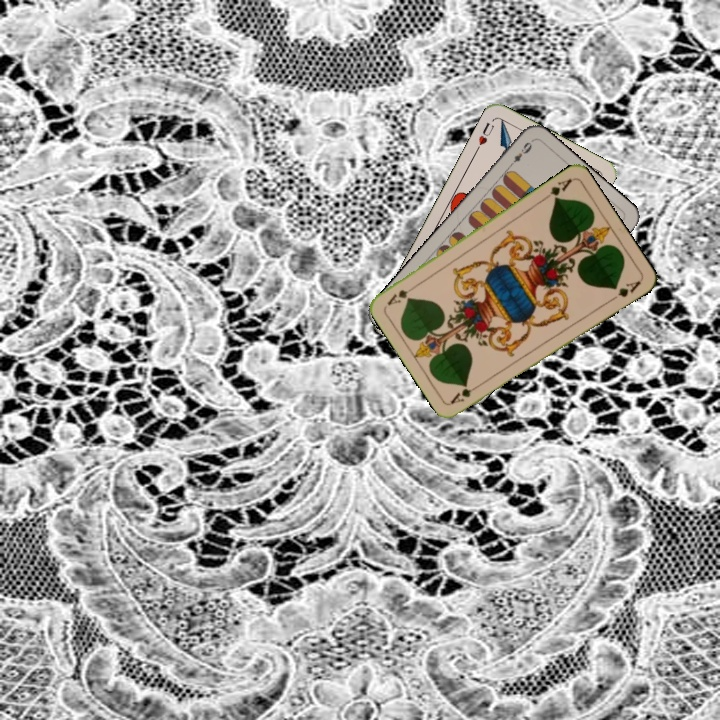E9: (505, 137, 536, 170)
GA: (539, 174, 575, 203), (447, 380, 484, 406)
HU: (472, 118, 497, 154)
